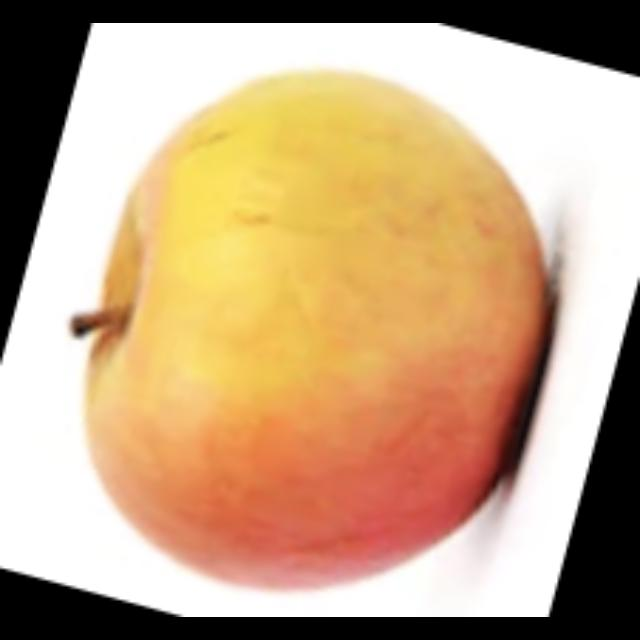Apel Segar: (80, 70, 548, 590)
